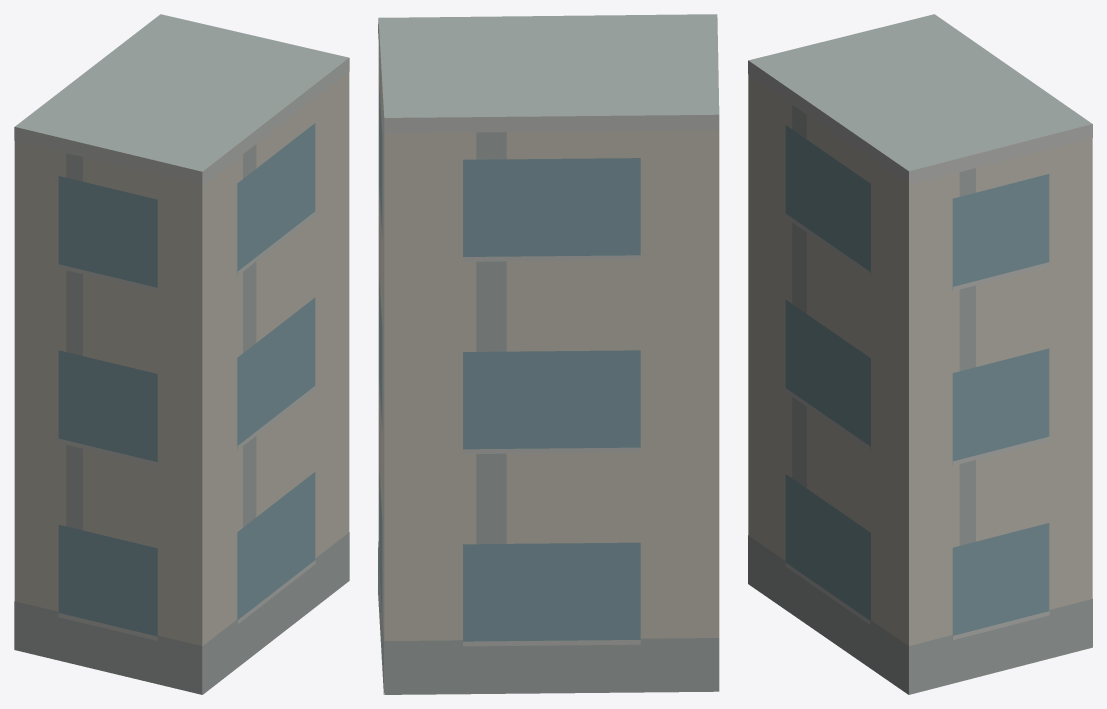
The model's file is survey-upis-32571797.glb.
3 renders of one model, left to right at view 1: azimuth 30°, elevation 25°; view 2: azimuth 150°, elevation 25°; view 3: azimuth 270°, elevation 25°, orthographic. The views are drawn at different scales.
Parts seen in each view (by area): view 1: survey-upis-32571797.tmp; view 2: survey-upis-32571797.tmp; view 3: survey-upis-32571797.tmp.
Part boxes in pixels (<box>): survey-upis-32571797.tmp: <box>14,14,349,694</box>; survey-upis-32571797.tmp: <box>378,14,719,694</box>; survey-upis-32571797.tmp: <box>748,14,1092,694</box>.
Size of the model in its own units: 5.9 by 9.15 by 5.46.
